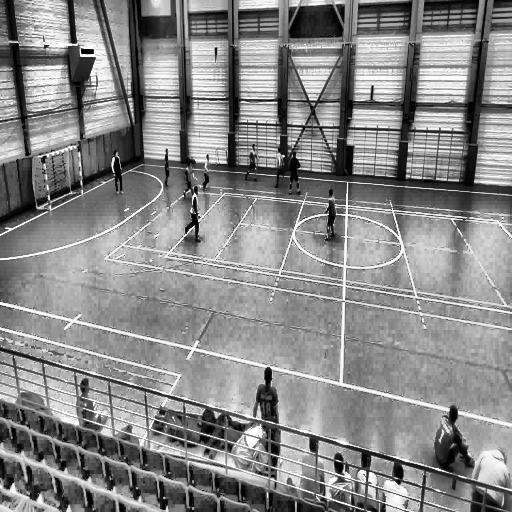ball: (282, 153, 286, 160)
player: (184, 183, 201, 242), (324, 187, 336, 240), (287, 149, 301, 194), (111, 150, 124, 195), (183, 160, 198, 199), (274, 147, 286, 189), (245, 146, 258, 182), (162, 144, 172, 189), (201, 154, 210, 190)
